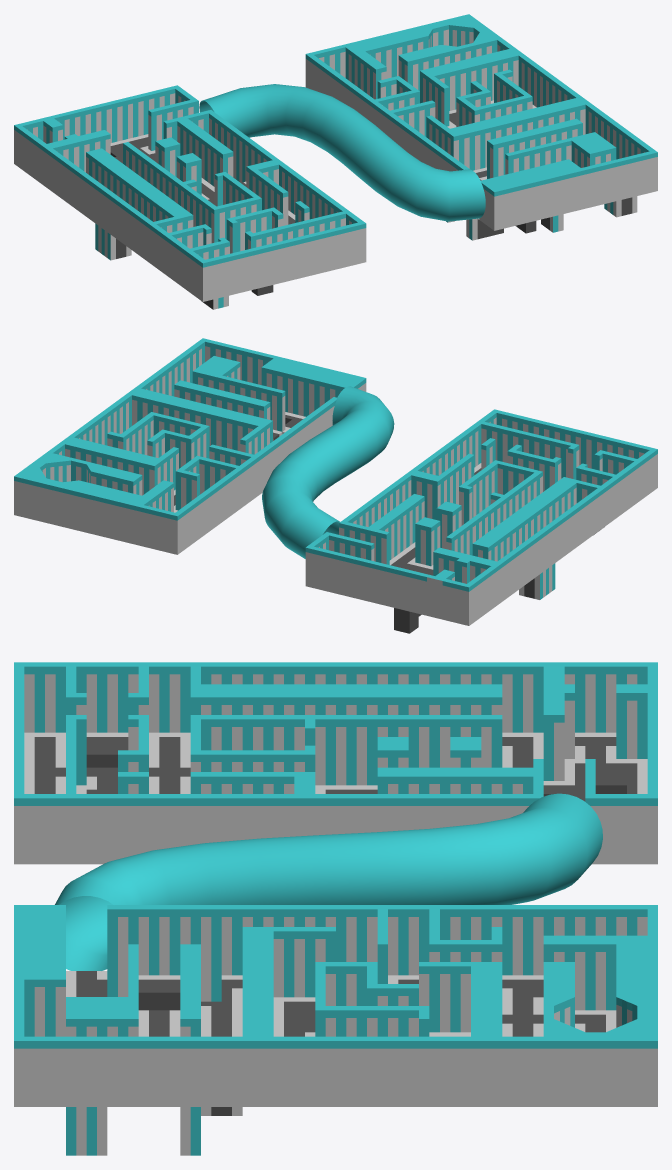
File: saturnlvl2.fbx
3 views of the same model, one above another, from view 1: azimuth 30°, elevation 25°; view 2: azimuth 150°, elevation 25°; view 3: azimuth 270°, elevation 25° (orthographic). The views are drawn at different scales.
Visible parts, largest first — view 1: Plane, BezierCurve; view 2: Plane, BezierCurve; view 3: Plane, BezierCurve.
Part boxes in pixels (x1,y1,x2,y2): Plane: [14, 14, 657, 309]; BezierCurve: [199, 84, 485, 221]; Plane: [14, 338, 657, 633]; BezierCurve: [262, 386, 394, 558]; Plane: [14, 662, 657, 1155]; BezierCurve: [55, 793, 602, 970].
Bounding box in the file's own units: 4452 × 820 × 3200.
